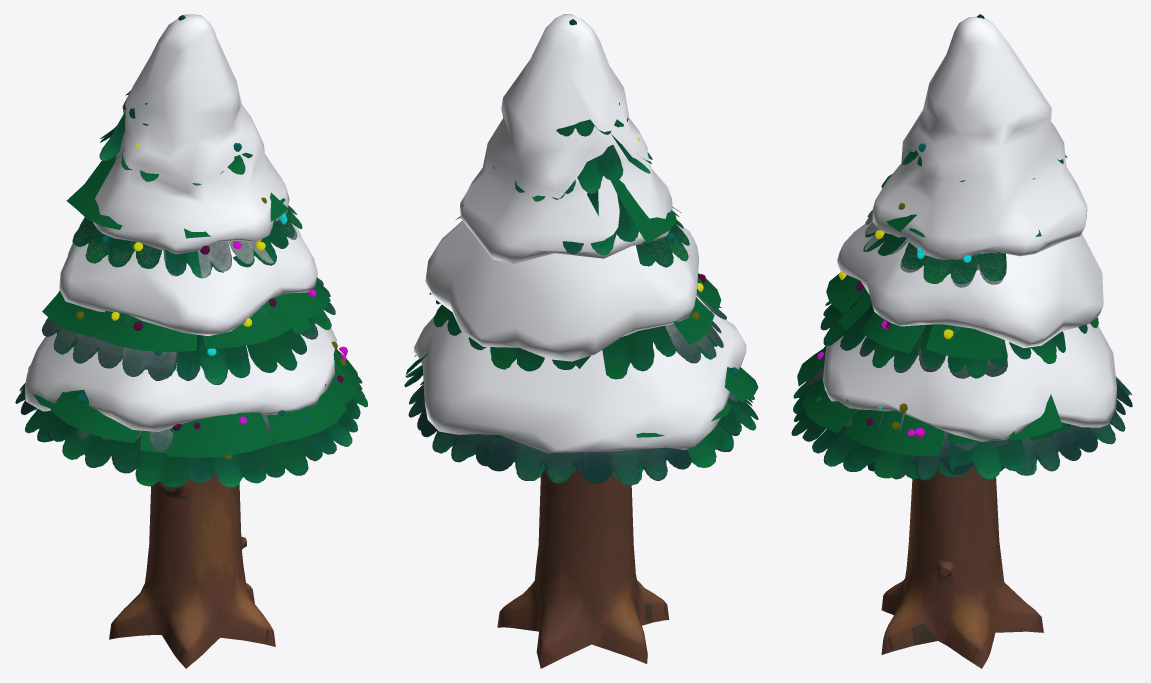
Rendered from cedar-deco.glb.
The picture shows the model from 3 angles, left to right: view 1: azimuth 30°, elevation 25°; view 2: azimuth 150°, elevation 25°; view 3: azimuth 270°, elevation 25°; orthographic projection. The views are drawn at different scales.
Visible parts, largest first — view 1: mWinterSnow, mPltTreeCedarLeaf, mPltTreeCedarLeafD, mTreeCedarTrunk, mPltTreeCedarLeafSnow, mTreeCedarTrunkSnow, mPltTreeDecoA; view 2: mWinterSnow, mTreeCedarTrunk, mPltTreeCedarLeaf, mPltTreeCedarLeafSnow, mTreeCedarTrunkSnow, mPltTreeCedarLeafD; view 3: mWinterSnow, mTreeCedarTrunk, mPltTreeCedarLeaf, mPltTreeCedarLeafD, mPltTreeCedarLeafSnow, mTreeCedarTrunkSnow, mPltTreeDecoA.
Part boxes in pixels (x1=…): mWinterSnow: x1=24, y1=14, x2=336, y2=431; mPltTreeCedarLeaf: x1=20, y1=15, x2=367, y2=487; mPltTreeCedarLeafD: x1=28, y1=155, x2=359, y2=457; mTreeCedarTrunk: x1=109, y1=472, x2=275, y2=668; mPltTreeCedarLeafSnow: x1=15, y1=206, x2=364, y2=487; mTreeCedarTrunkSnow: x1=110, y1=474, x2=272, y2=665; mPltTreeDecoA: x1=76, y1=103, x2=347, y2=430; mWinterSnow: x1=414, y1=14, x2=746, y2=453; mTreeCedarTrunk: x1=497, y1=467, x2=669, y2=668; mPltTreeCedarLeaf: x1=404, y1=19, x2=757, y2=484; mPltTreeCedarLeafSnow: x1=406, y1=211, x2=758, y2=485; mTreeCedarTrunkSnow: x1=504, y1=470, x2=666, y2=663; mPltTreeCedarLeafD: x1=406, y1=179, x2=758, y2=437; mWinterSnow: x1=823, y1=16, x2=1116, y2=441; mTreeCedarTrunk: x1=881, y1=466, x2=1043, y2=668; mPltTreeCedarLeaf: x1=791, y1=14, x2=1129, y2=479; mPltTreeCedarLeafD: x1=797, y1=174, x2=1062, y2=456; mPltTreeCedarLeafSnow: x1=791, y1=212, x2=1132, y2=480; mTreeCedarTrunkSnow: x1=882, y1=468, x2=1003, y2=653; mPltTreeDecoA: x1=817, y1=143, x2=971, y2=437.
Bounding box in the file's own units: 21.68 × 40.56 × 20.61.
Materials: 8 (6 with a texture image).
